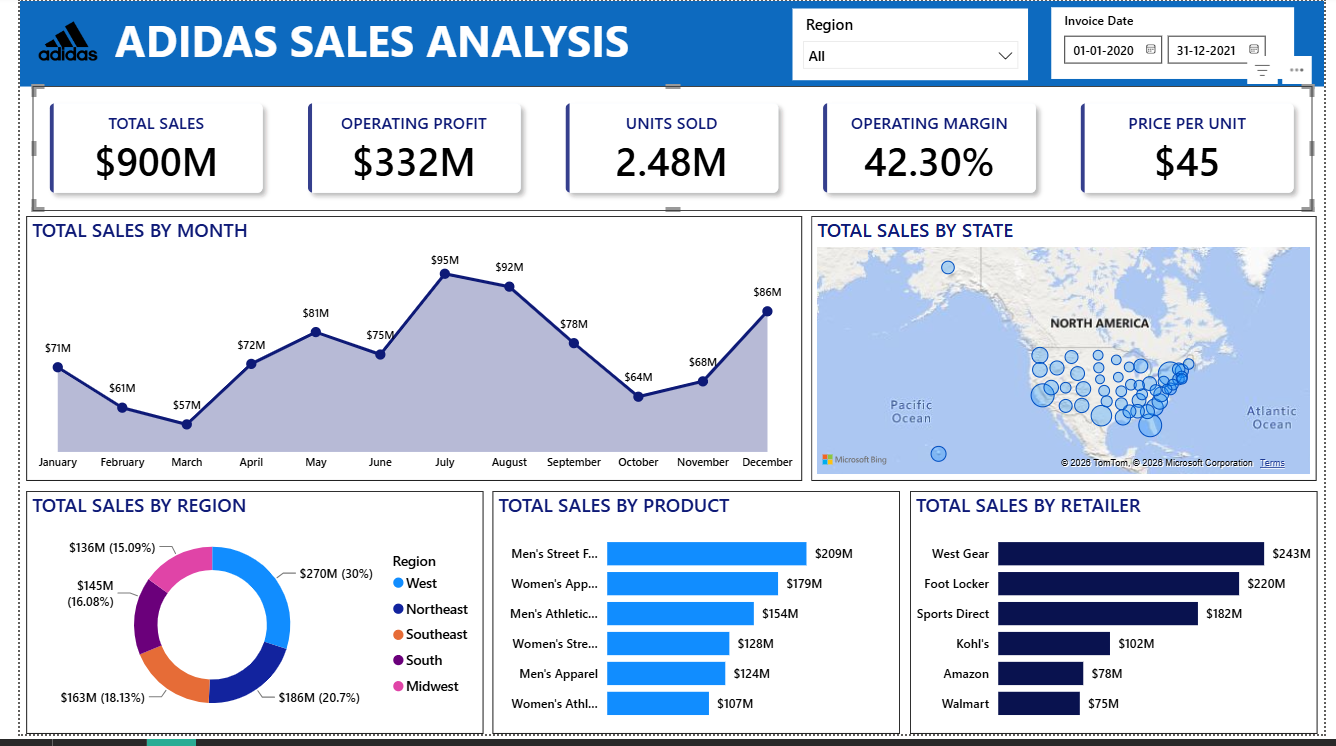

The page's visual inventory and layout, read from the dashboard file:
{"tool":"powerbi","page":{"name":"Page 1","canvas":[1280,720],"ordinal":0},"visuals":[{"type":"areaChart","title":"TOTAL SALES BY MONTH","fields":{"Category":["Data Sales Adidas.Invoice Date.Variation.Date Hierarchy.Month"],"Y":["Sum(Data Sales Adidas.Total Sales)"]},"box":[6.2,211.2,761.2,260],"z":0},{"type":"donutChart","title":"TOTAL SALES BY REGION","fields":{"Category":["Data Sales Adidas.Region"],"Y":["Sum(Data Sales Adidas.Total Sales)"]},"box":[6.2,481.2,448.8,238.8],"z":1000},{"type":"barChart","title":"TOTAL SALES BY PRODUCT","fields":{"Category":["Data Sales Adidas.Product"],"Y":["Sum(Data Sales Adidas.Total Sales)"]},"box":[463.8,481.2,400,238.8],"z":2000},{"type":"shape","box":[0,0,1280,83.8],"z":3000},{"type":"textbox","box":[88.8,3.8,535,73.8],"z":4000},{"type":"cardVisual","fields":{"Data":["Sum(Data Sales Adidas.Total Sales)","Sum(Data Sales Adidas.Operating Profit)","Sum(Data Sales Adidas.Units Sold)","Avg(Data Sales Adidas.Operating Margin)","Avg(Data Sales Adidas.Price per Unit)"]},"box":[12.3,83.4,1256.4,122.7],"z":5000},{"type":"map","title":"TOTAL SALES BY STATE","fields":{"Category":["Data Sales Adidas.State"],"Size":["Sum(Data Sales Adidas.Total Sales)"]},"box":[776.2,211.2,496.2,260],"z":6000},{"type":"barChart","title":"TOTAL SALES BY RETAILER","fields":{"Category":["Data Sales Adidas.Retailer"],"Y":["Sum(Data Sales Adidas.Total Sales)"]},"box":[873.8,481.2,400,238.8],"z":7000},{"type":"slicer","fields":{"Values":["Data Sales Adidas.Region"]},"box":[758.8,7.5,231.2,70],"z":8000},{"type":"slicer","fields":{"Values":["Data Sales Adidas.Invoice Date"]},"box":[1012.5,6.2,238.8,70],"z":9000},{"type":"image","box":[13.8,5,67.5,68.8],"z":10000}]}

Visuals, with their boxes in screenshot pixels (x1, y1, x2, y2), scaled from the page's 1280x720 canvas onto the 1336x746 screenshot:
"TOTAL SALES BY MONTH" areaChart: (6, 219, 801, 488)
"TOTAL SALES BY REGION" donutChart: (6, 499, 475, 745)
"TOTAL SALES BY PRODUCT" barChart: (484, 499, 902, 745)
shape: (0, 0, 1335, 87)
textbox: (93, 4, 651, 80)
cardVisual - Sum(Data Sales Adidas.Total Sales) x Sum(Data Sales Adidas.Operating Profit): (13, 86, 1324, 214)
"TOTAL SALES BY STATE" map: (810, 219, 1328, 488)
"TOTAL SALES BY RETAILER" barChart: (912, 499, 1330, 745)
slicer - Data Sales Adidas.Region: (792, 8, 1033, 80)
slicer - Data Sales Adidas.Invoice Date: (1057, 6, 1306, 79)
image: (14, 5, 85, 76)
